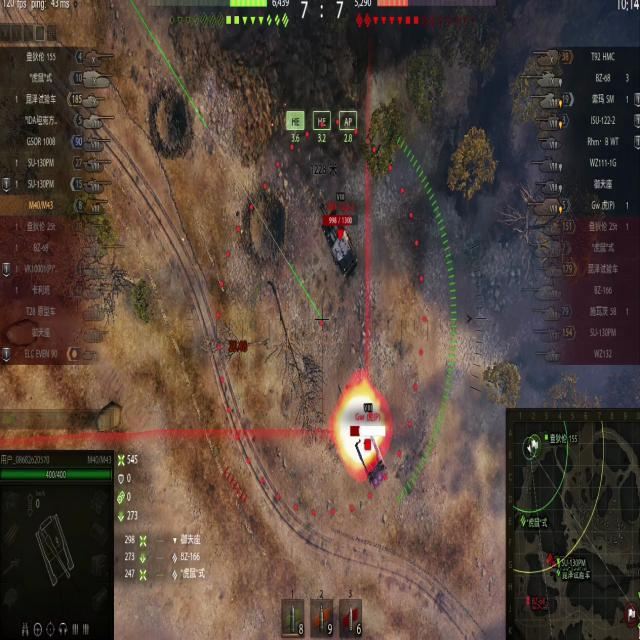tank: (317, 195, 363, 288)
